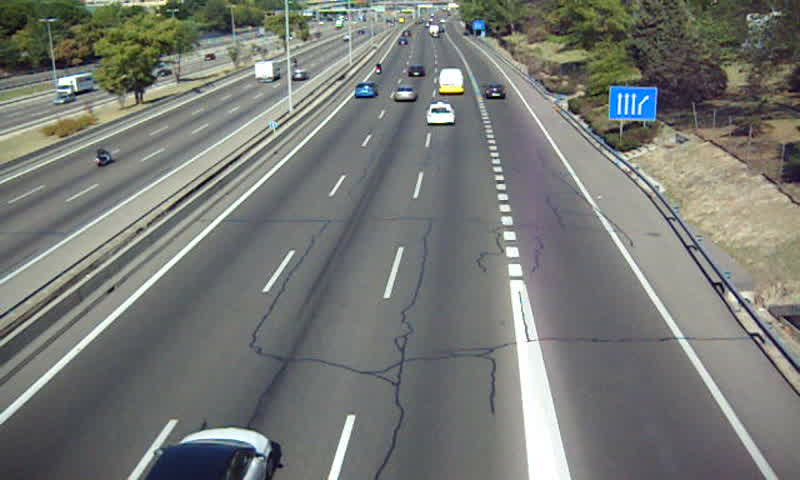car: (424, 102, 457, 125), (393, 86, 417, 104), (354, 83, 375, 101), (482, 84, 505, 100), (406, 64, 426, 76)
van: (437, 69, 464, 95)
